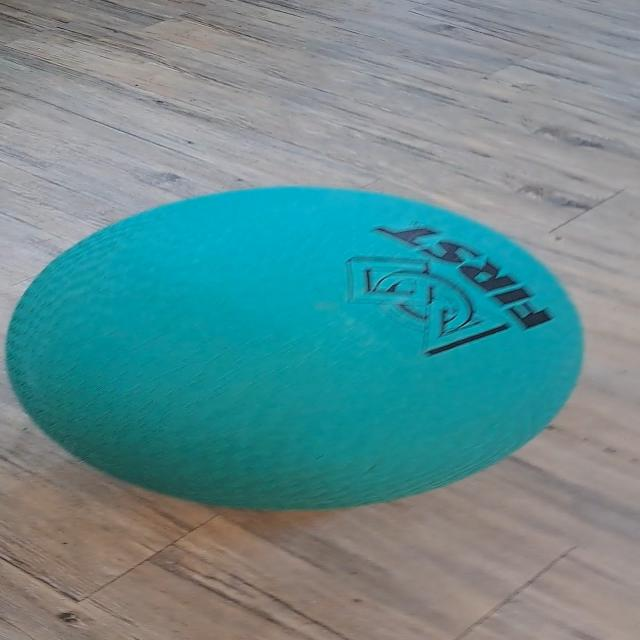ALGAE: (4, 183, 586, 512)
